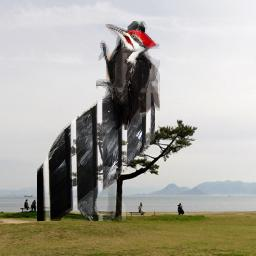Crow: (37, 21, 155, 221)
Woodpecker: (96, 24, 160, 130)
